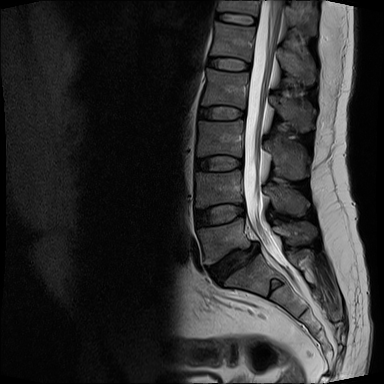Lumbar Disc Bulge (LDB): (199, 236, 268, 292)
Normal IVD: (192, 195, 250, 231), (194, 101, 247, 124), (190, 153, 246, 174), (201, 55, 254, 75), (212, 10, 260, 29)
Spinal Stenosis (SS): (246, 235, 262, 261)
